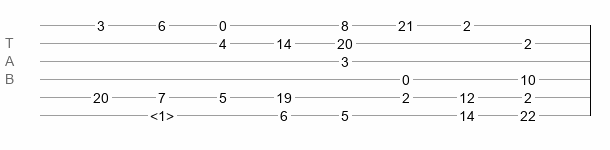0: (219, 18, 227, 28), (402, 72, 410, 82)
10: (520, 72, 536, 82)
12: (459, 90, 475, 100)
14: (276, 36, 292, 46), (459, 108, 475, 118)
19: (276, 90, 292, 100)
2: (402, 90, 410, 100), (463, 18, 471, 28), (524, 36, 532, 46), (524, 90, 532, 100)
20: (93, 90, 109, 100), (337, 36, 353, 46)
21: (398, 18, 414, 28)
22: (520, 108, 536, 118)
3: (97, 18, 105, 28), (341, 54, 349, 64)
4: (219, 36, 227, 46)
5: (219, 90, 227, 100), (341, 108, 349, 118)
6: (158, 18, 166, 28), (280, 108, 288, 118)
7: (158, 90, 166, 100)
8: (341, 18, 349, 28)
harmonic: (150, 108, 174, 118)
